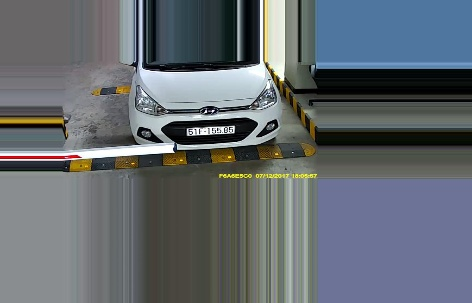plate: (184, 122, 237, 137)
